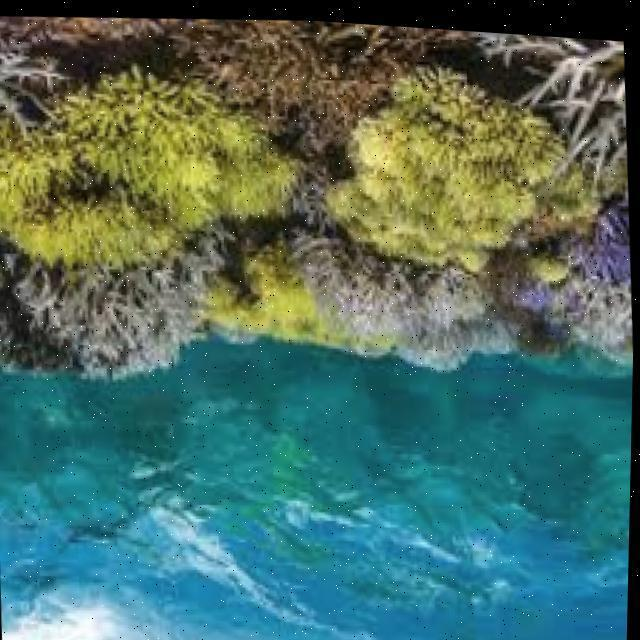Bleached Coral: (0, 256, 204, 374), (336, 266, 520, 368), (578, 296, 640, 361)
Healthy Coral: (0, 85, 306, 249), (336, 66, 563, 272), (563, 159, 640, 288), (525, 240, 574, 284)
